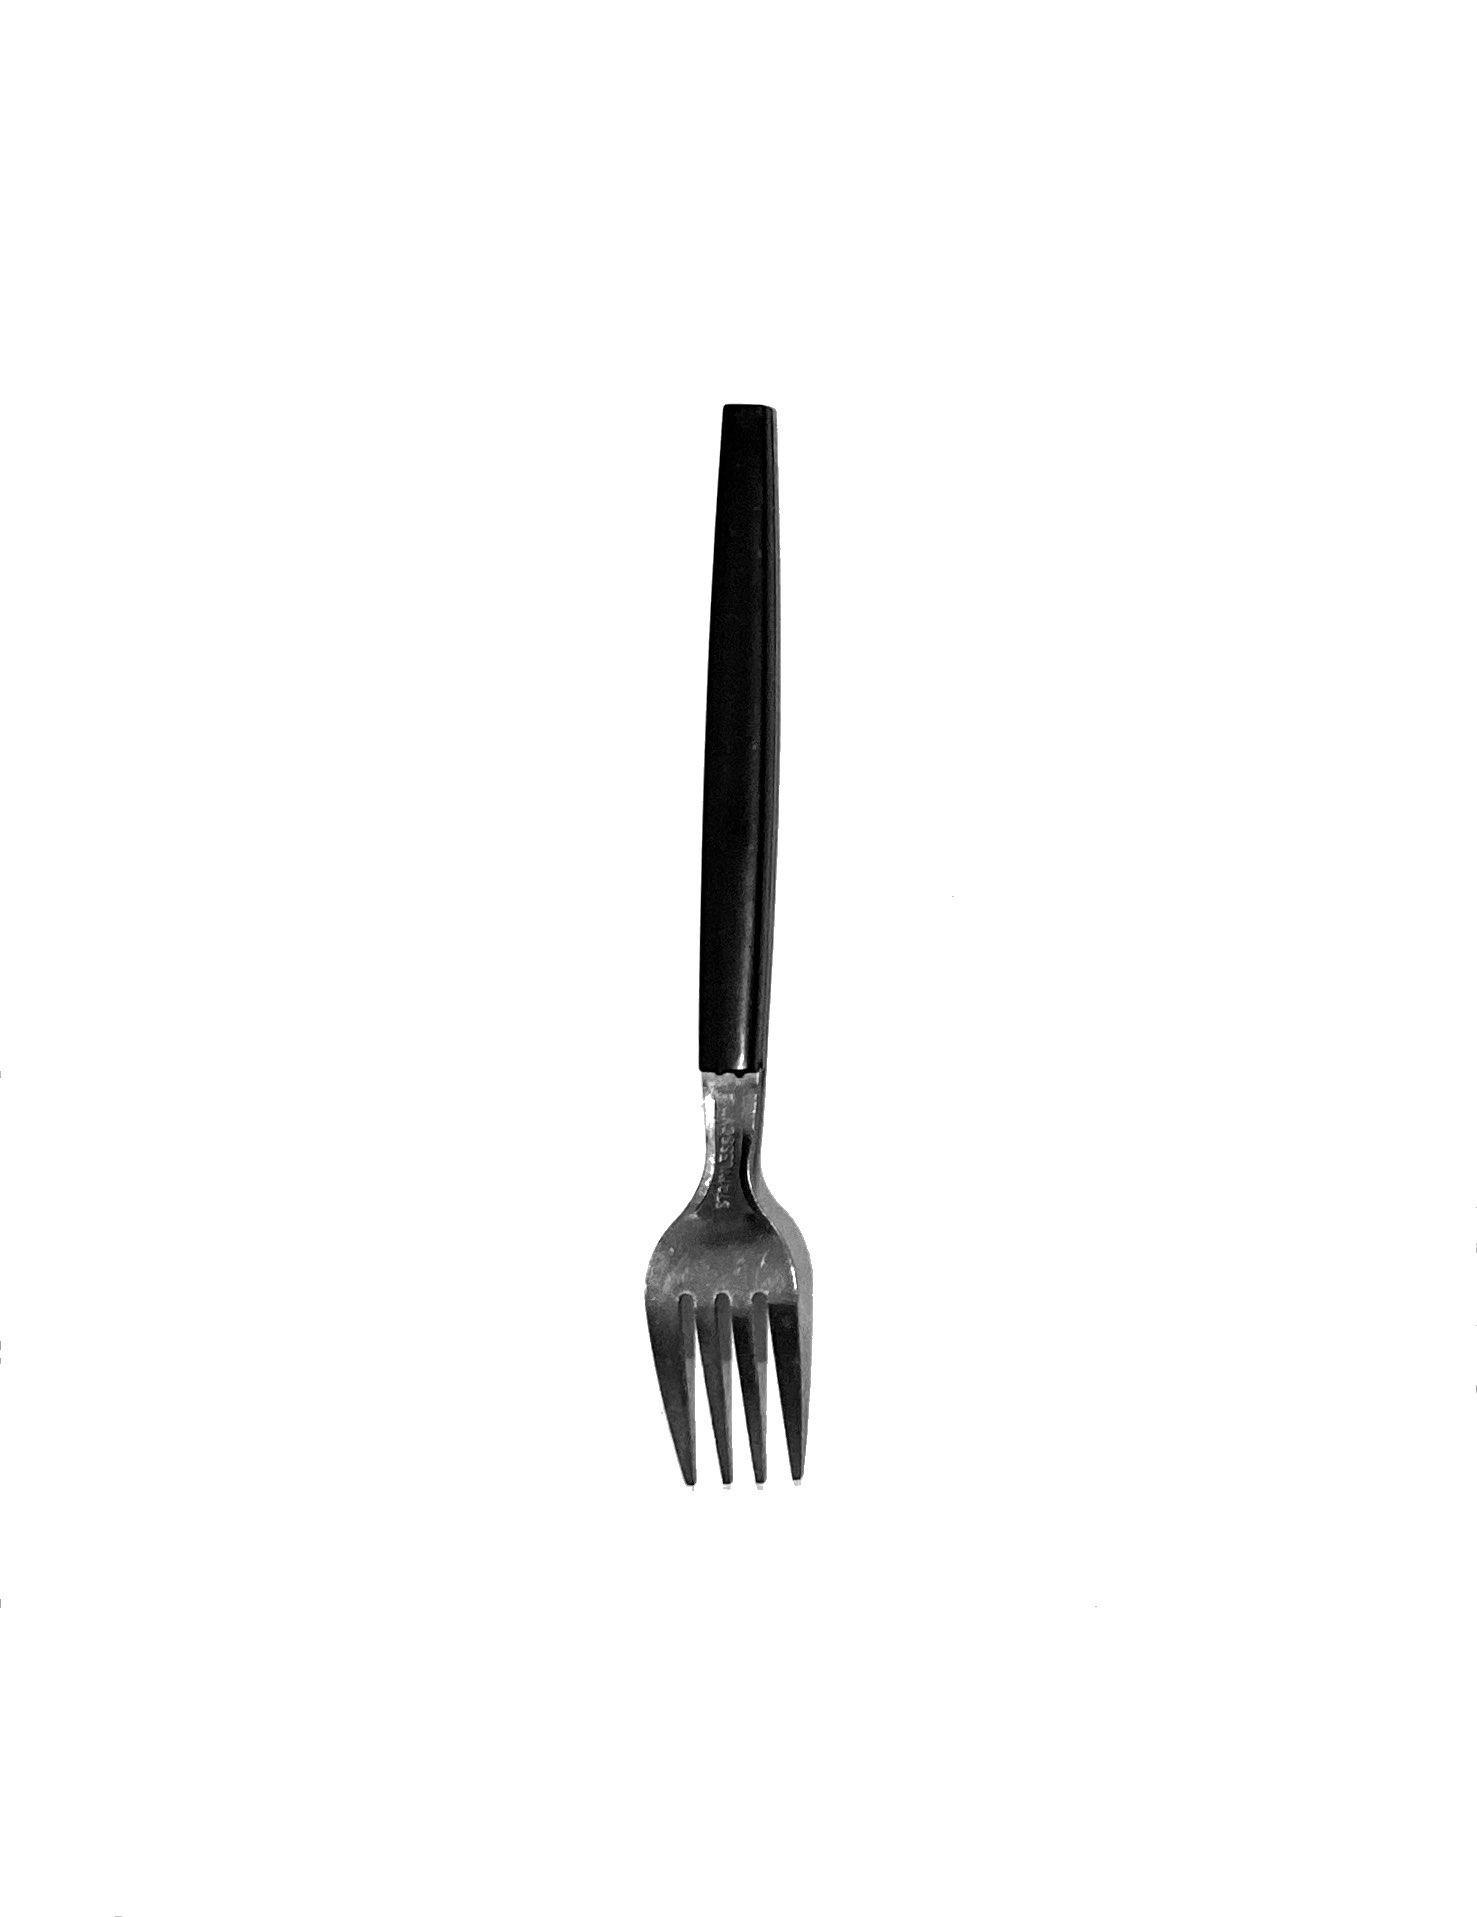Fork: (518, 375, 1078, 1529)
